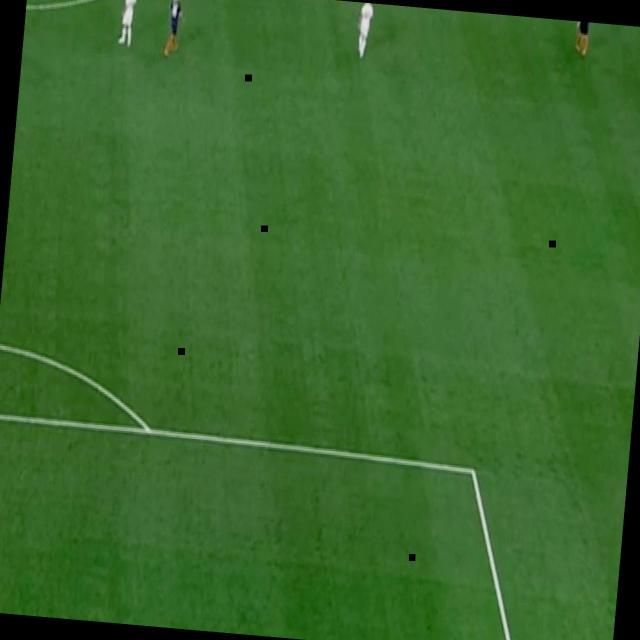player-white: (162, 0, 188, 62), (354, 2, 377, 61), (117, 0, 141, 48), (574, 21, 594, 60)
